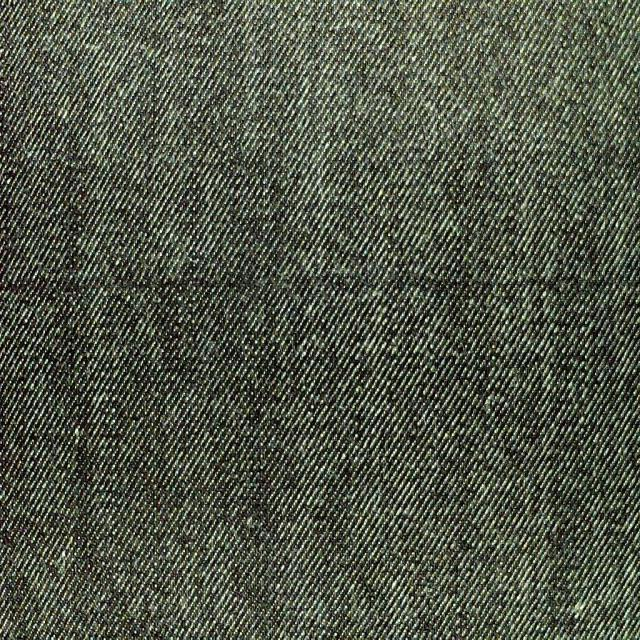Line: (2, 273, 640, 298)
